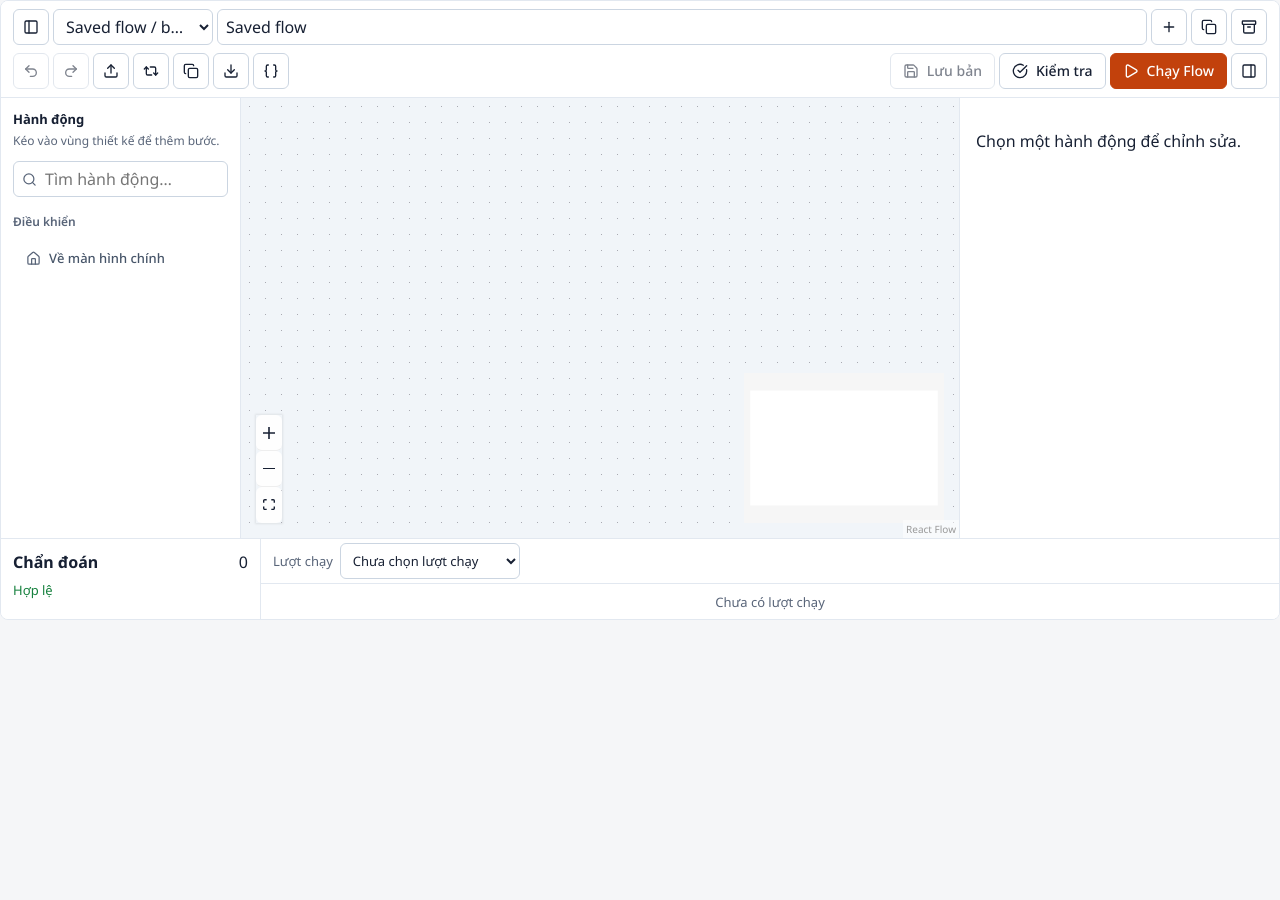
Test case: the compile preview has three answers, not two › reports a valid document in Vietnamese and keeps the raw context inside details
What coordinates should you click on to do the following:
click the button with aria-label "Kiểm tra Flow"
I would click on:
 (1052, 71)
Its box is x1=999 y1=53 x2=1106 y2=89.
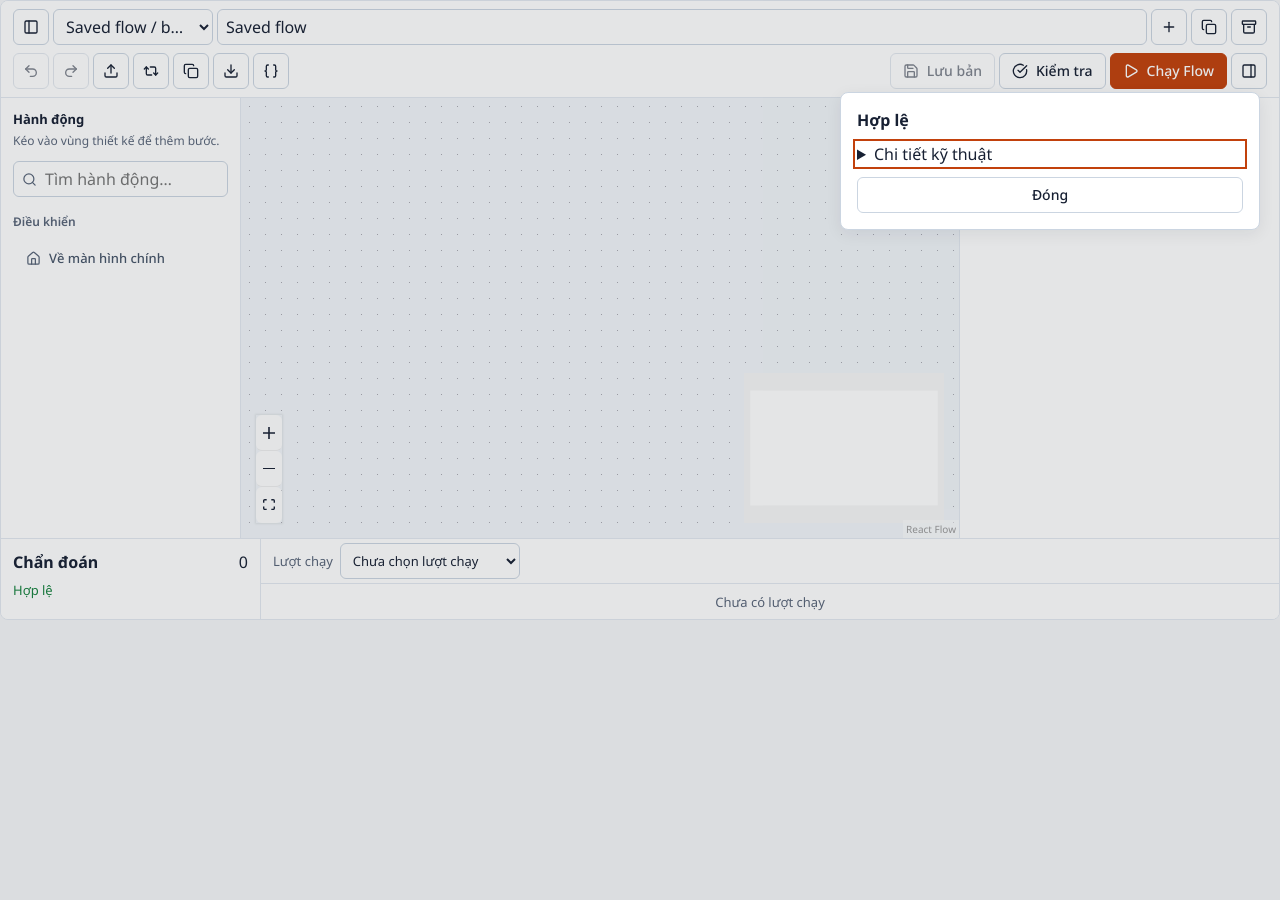
Now the text "Hợp lệ" is shown, box x1=857 y1=109 x2=909 y2=131
Now the text "Chi tiết kỹ thuật" is shown, box x1=874 y1=143 x2=992 y2=165
